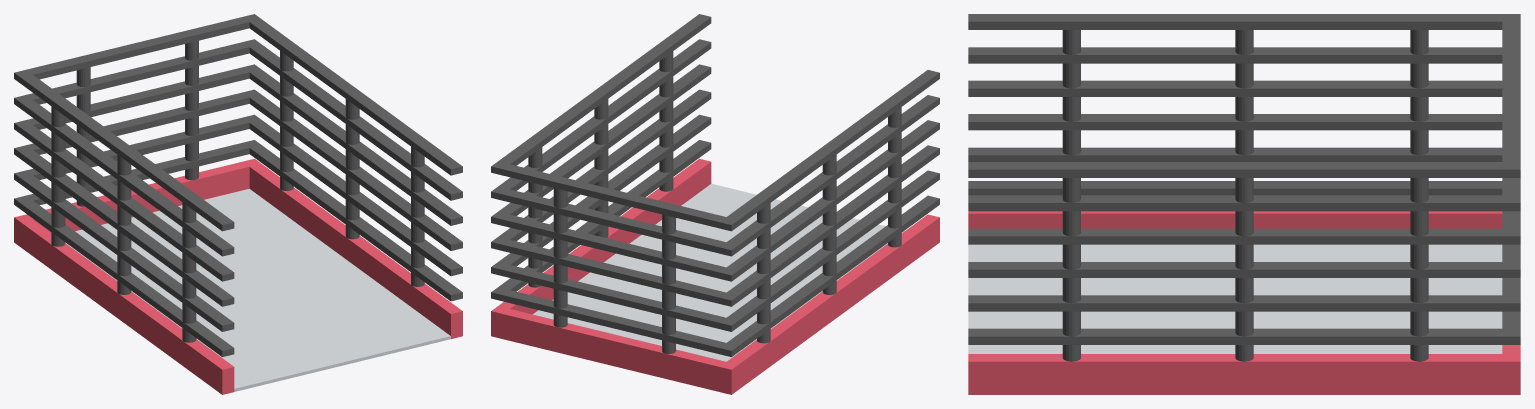
Rendered from start_straight.glb.
3 views of the same model, side by side, from view 1: azimuth 30°, elevation 25°; view 2: azimuth 150°, elevation 25°; view 3: azimuth 270°, elevation 25° (orthographic). The views are drawn at different scales.
Visible parts, largest first — view 1: obj_0; view 2: obj_0; view 3: obj_0.
Part boxes in pixels (left/top/right/bottom): obj_0: left=14, top=14, right=462, bottom=394; obj_0: left=491, top=14, right=939, bottom=394; obj_0: left=968, top=14, right=1520, bottom=394.
Size of the model in its own units: 20 by 13.5 by 30.
